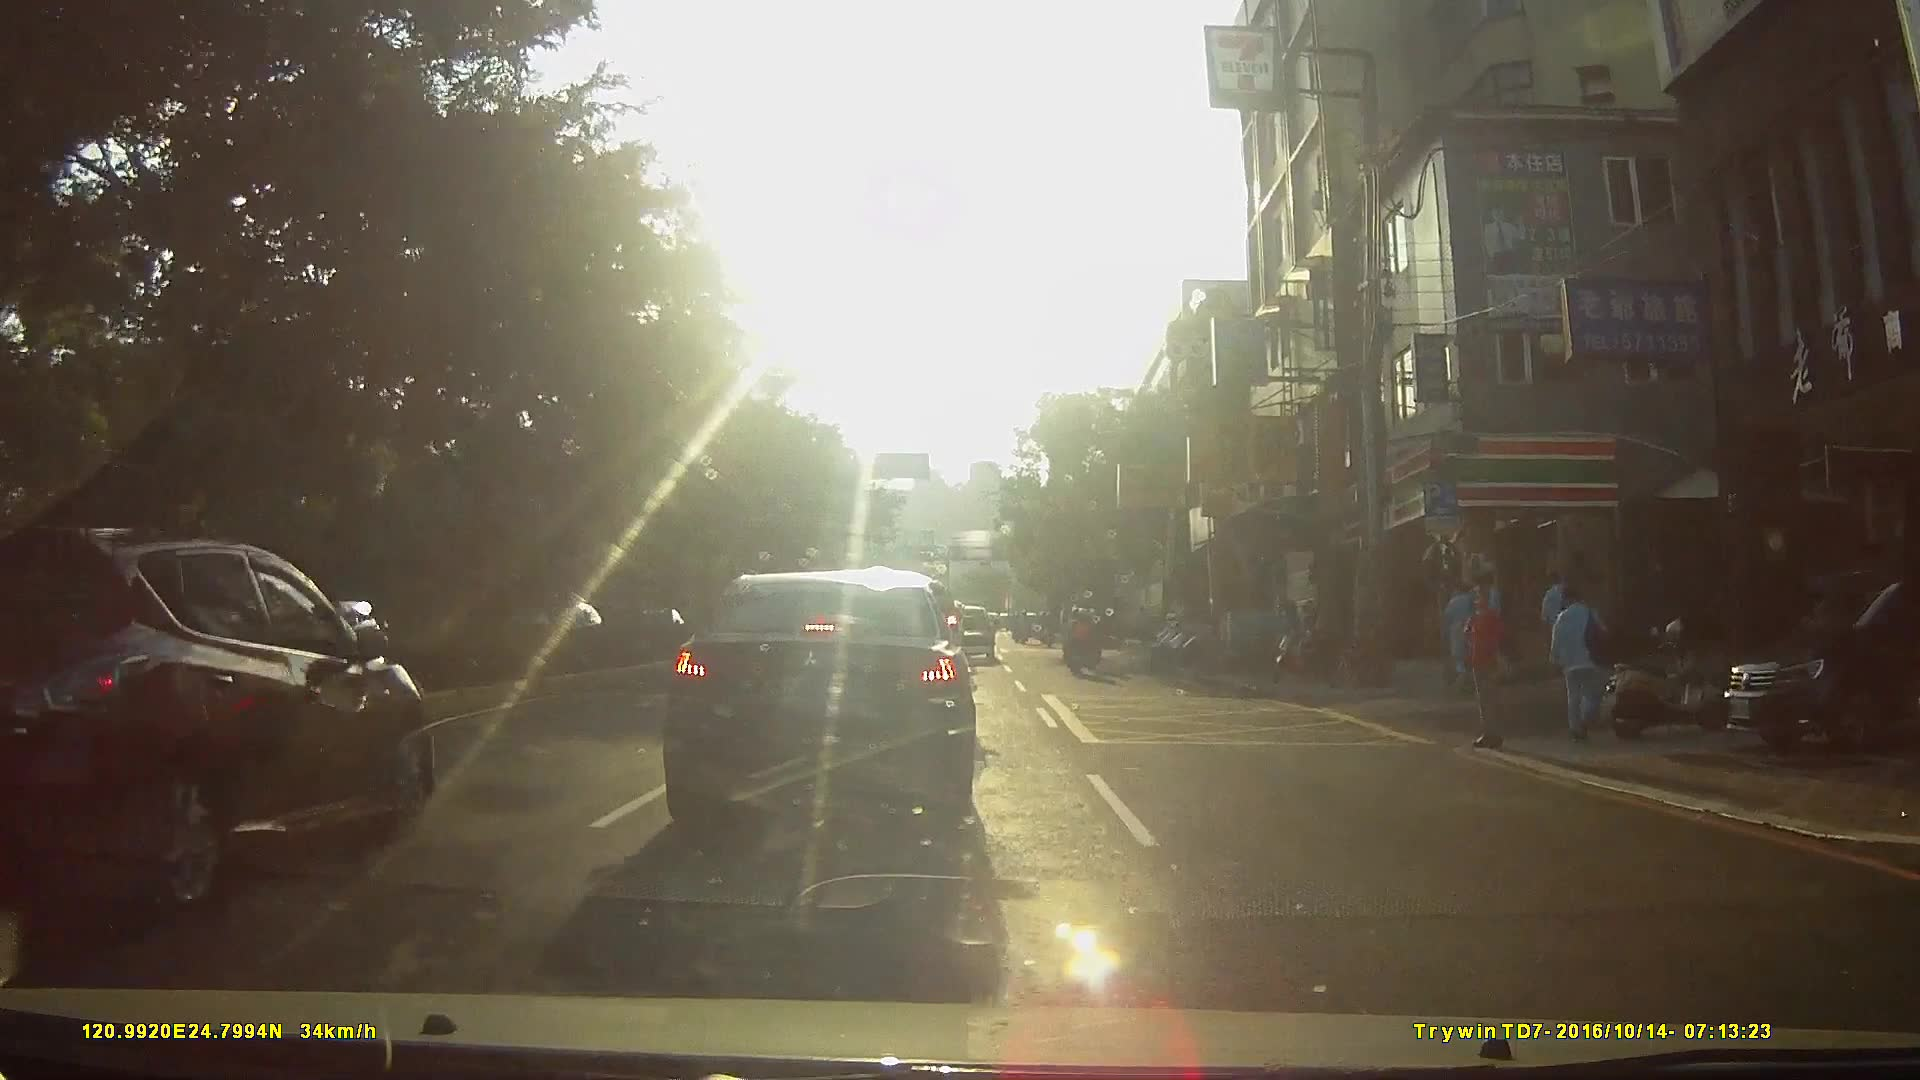pedestrian: (1544, 585, 1609, 740), (1464, 591, 1516, 755), (1444, 579, 1482, 683)
rider: (1061, 609, 1099, 682), (1062, 606, 1088, 659)
vehicle: (1, 523, 435, 924), (662, 572, 994, 815), (1711, 567, 1920, 760)
